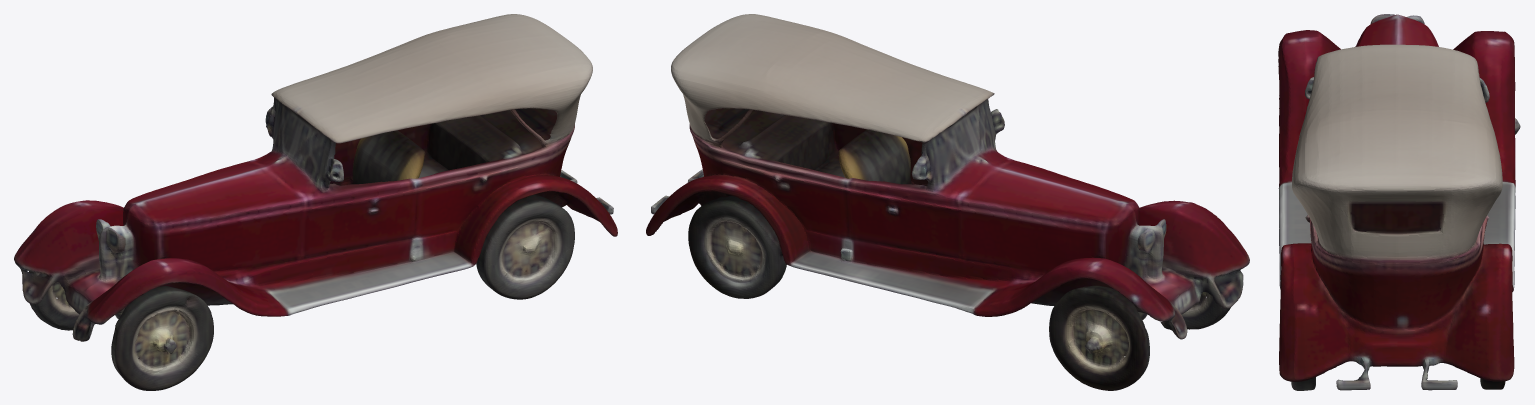
Rendered from sam3d.glb.
The picture shows the model from 3 angles, left to right: view 1: azimuth 30°, elevation 25°; view 2: azimuth 150°, elevation 25°; view 3: azimuth 270°, elevation 25°; orthographic projection. The views are drawn at different scales.
Visible parts, largest first — view 1: world; view 2: world; view 3: world.
Part boxes in pixels (x1,y1,x2,y2): world: (14, 14, 617, 390); world: (646, 14, 1249, 390); world: (1278, 14, 1520, 390).
Bounding box in the file's own units: 0.9989 × 0.3988 × 0.3349.
